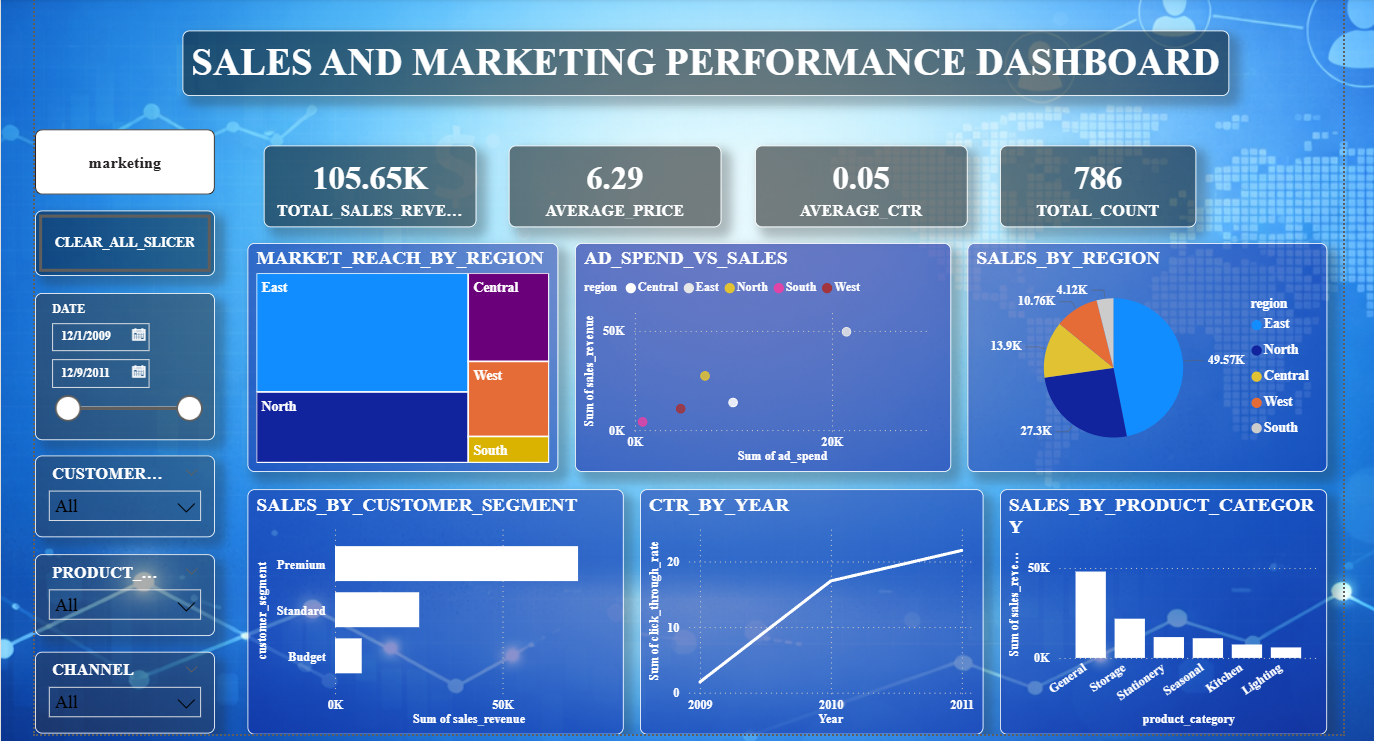

This screenshot's page, from the dashboard's own definition file:
{"tool":"powerbi","page":{"name":"sales","canvas":[1280,720],"ordinal":1},"visuals":[{"type":"card","fields":{"Values":["train.TOTAL_COUNT"]},"box":[944,144,192,80],"z":0},{"type":"card","fields":{"Values":["train.TOTAL_SALES_REVENUE"]},"box":[224,144,208,80],"z":1000},{"type":"card","fields":{"Values":["train.AVERAGE_CTR"]},"box":[704,144,208,80],"z":2000},{"type":"card","fields":{"Values":["train.AVERAGE_PRICE"]},"box":[464,144,208,80],"z":3000},{"type":"barChart","title":"SALES_BY_CUSTOMER_SEGMENT","fields":{"Y":["Sum(train.sales_revenue)"],"Category":["train.customer_segment"]},"box":[208,480,368,240],"z":4000},{"type":"columnChart","title":"SALES_BY_PRODUCT_CATEGORY","fields":{"Category":["train.product_category"],"Y":["Sum(train.sales_revenue)"]},"box":[944,480,320,240],"z":5000},{"type":"pieChart","title":"SALES_BY_REGION","fields":{"Y":["Sum(train.sales_revenue)"],"Category":["train.region"]},"box":[912,240,352,224],"z":6000},{"type":"scatterChart","title":"AD_SPEND_VS_SALES","fields":{"X":["Sum(train.ad_spend)"],"Y":["Sum(train.sales_revenue)"],"Series":["train.region"]},"box":[528,240,368,224],"z":7000},{"type":"lineChart","title":"CTR_BY_YEAR","fields":{"Category":["train.date.Variation.Date Hierarchy.Year","train.date.Variation.Date Hierarchy.Quarter","train.date.Variation.Date Hierarchy.Month","train.date.Variation.Date Hierarchy.Day"],"Y":["Sum(train.click_through_rate)"]},"box":[592,480,336,240],"z":8000},{"type":"textbox","box":[144,32,1024,64],"z":9000},{"type":"slicer","fields":{"Values":["train.product_category"]},"box":[0,544,176,80],"z":10000},{"type":"slicer","fields":{"Values":["train.channel"]},"box":[0,640,176,80],"z":11000},{"type":"slicer","fields":{"Values":["train.customer_segment"]},"box":[0,448,176,80],"z":12000},{"type":"actionButton","box":[0,208,176,64],"z":13000},{"type":"pageNavigator","box":[0,128,176,64],"z":14000},{"type":"slicer","fields":{"Values":["train.date"]},"box":[0,288,176,144],"z":15000},{"type":"treemap","title":"MARKET_REACH_BY_REGION","fields":{"Group":["train.region"],"Values":["Sum(train.market_reach)"]},"box":[208,240,304,224],"z":16000}]}

Visuals, with their boxes on the page's 1280x720 design canvas (x1, y1, x2, y2). These are canvas units, not pixel positions in the 1374x741 screenshot, which may show the page scaled, cropped or inside an application window:
card - train.TOTAL_COUNT: [944,144,1136,224]
card - train.TOTAL_SALES_REVENUE: [224,144,432,224]
card - train.AVERAGE_CTR: [704,144,912,224]
card - train.AVERAGE_PRICE: [464,144,672,224]
"SALES_BY_CUSTOMER_SEGMENT" barChart: [208,480,576,720]
"SALES_BY_PRODUCT_CATEGORY" columnChart: [944,480,1264,720]
"SALES_BY_REGION" pieChart: [912,240,1264,464]
"AD_SPEND_VS_SALES" scatterChart: [528,240,896,464]
"CTR_BY_YEAR" lineChart: [592,480,928,720]
textbox: [144,32,1168,96]
slicer - train.product_category: [0,544,176,624]
slicer - train.channel: [0,640,176,720]
slicer - train.customer_segment: [0,448,176,528]
actionButton: [0,208,176,272]
pageNavigator: [0,128,176,192]
slicer - train.date: [0,288,176,432]
"MARKET_REACH_BY_REGION" treemap: [208,240,512,464]
